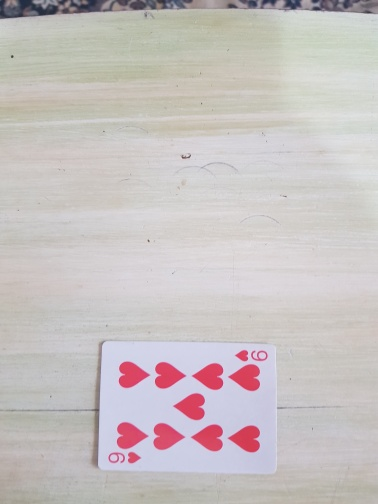nine: (96, 341, 279, 475)
